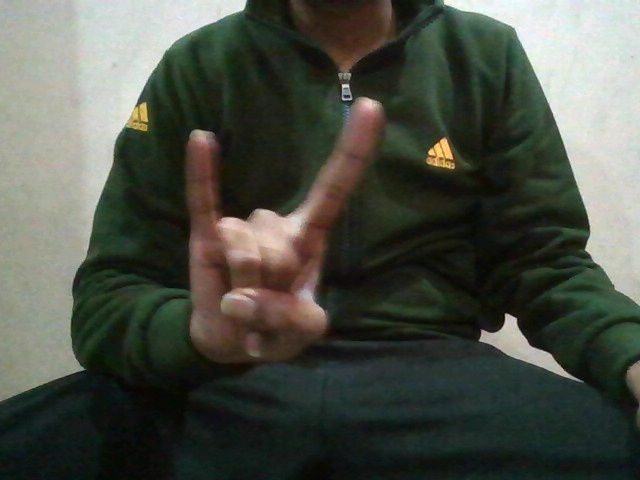U: (166, 131, 364, 356)
